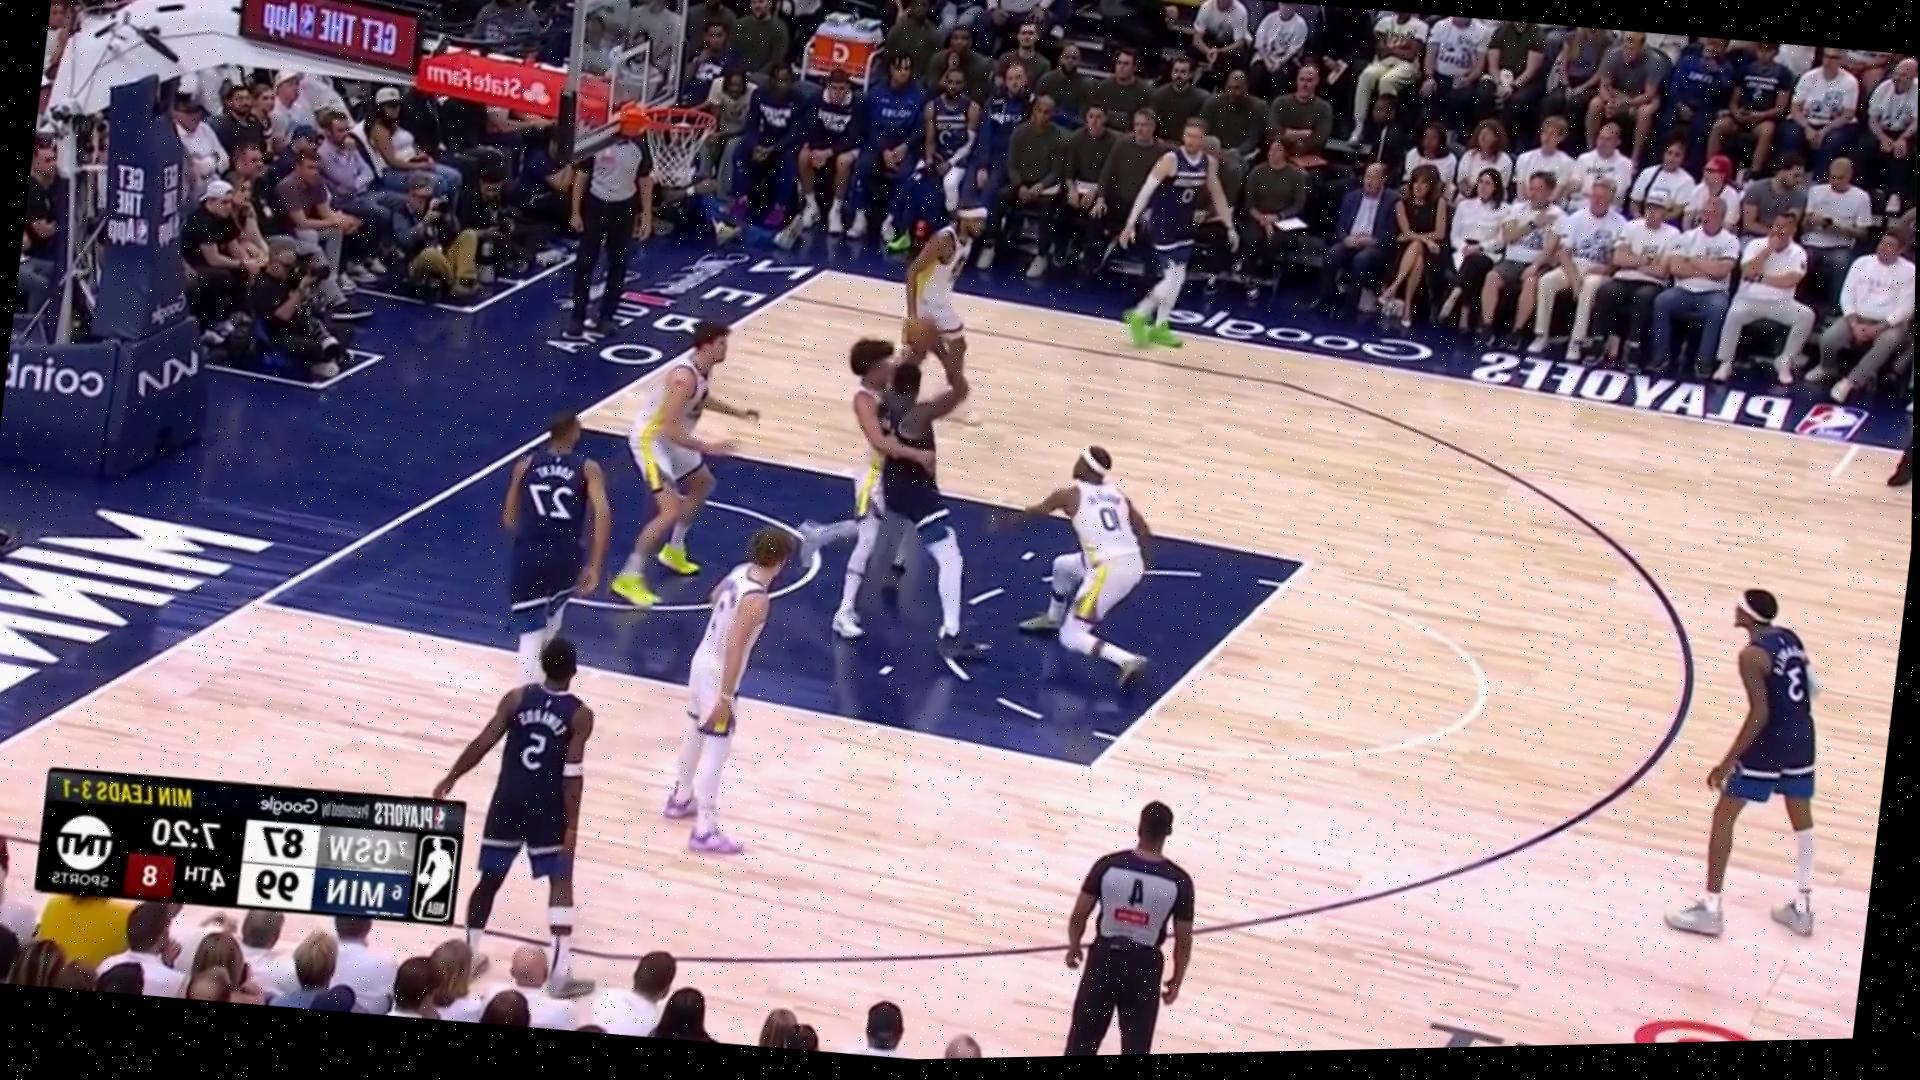foul: (775, 319, 1001, 640), (965, 328, 973, 334)
